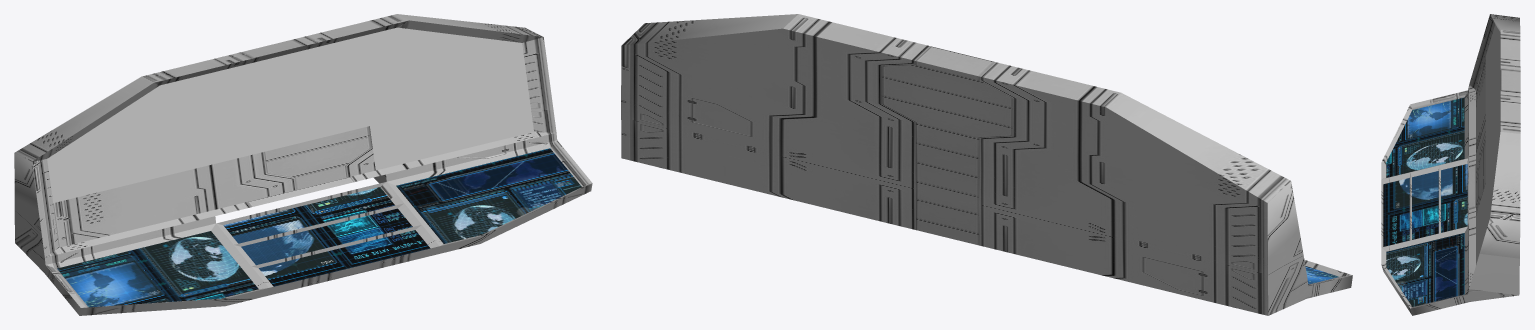
3 renders of one model, left to right at view 1: azimuth 30°, elevation 25°; view 2: azimuth 150°, elevation 25°; view 3: azimuth 270°, elevation 25°, orthographic. The views are drawn at different scales.
Parts seen in each view (by area): view 1: MaterialFBXASC032FBXASC0352142150880, MaterialFBXASC032FBXASC0352142172430, MaterialFBXASC032FBXASC0352142171025; view 2: MaterialFBXASC032FBXASC0352142150880; view 3: MaterialFBXASC032FBXASC0352142150880, MaterialFBXASC032FBXASC0352142171025, MaterialFBXASC032FBXASC0352142172430.
Boxes of the visible parts, box(x1,y1,x2,y2) form: MaterialFBXASC032FBXASC0352142150880: box(14, 14, 592, 315); MaterialFBXASC032FBXASC0352142172430: box(47, 27, 533, 203); MaterialFBXASC032FBXASC0352142171025: box(57, 148, 581, 307); MaterialFBXASC032FBXASC0352142150880: box(621, 14, 1352, 315); MaterialFBXASC032FBXASC0352142150880: box(1381, 14, 1520, 315); MaterialFBXASC032FBXASC0352142171025: box(1383, 97, 1467, 306); MaterialFBXASC032FBXASC0352142172430: box(1469, 24, 1519, 295).
Size of the model in its own units: 20.95 by 6.68 by 6.03.
